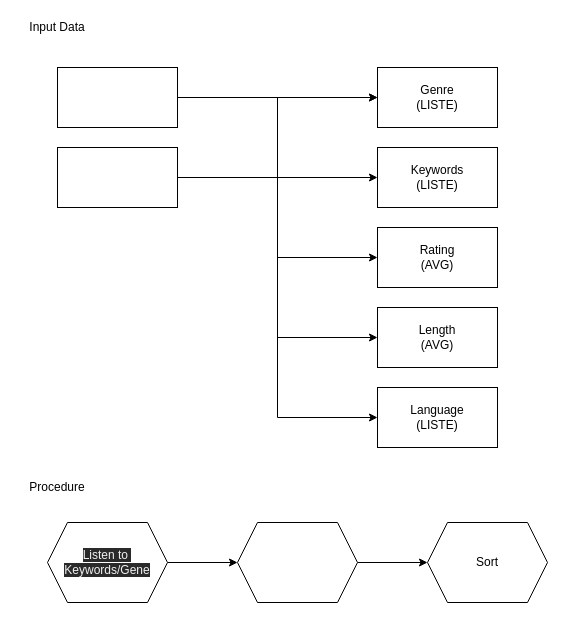
Image size: 565x622. Some labels were removed from this diagram. Each missing label, with the box of its shape:
Antiwatchlist (LISTE): (56, 146, 178, 208)
Result wiithout Anti/-Watchlist: (236, 522, 358, 602)
Watchlist (LISTE): (56, 66, 178, 128)
